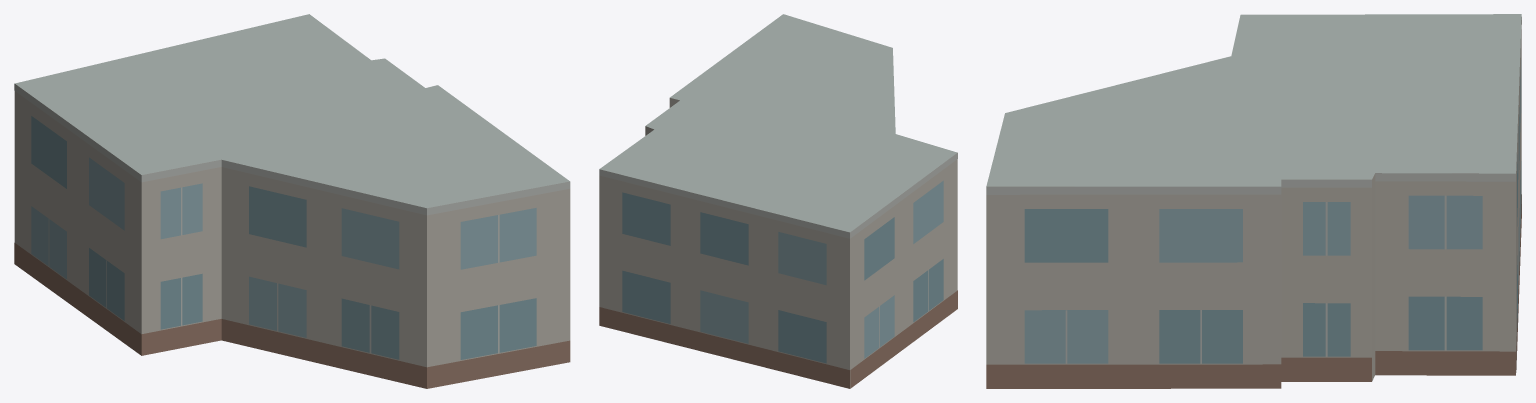
The model's file is survey-upis-32595666.glb.
The picture shows the model from 3 angles, left to right: view 1: azimuth 30°, elevation 25°; view 2: azimuth 150°, elevation 25°; view 3: azimuth 270°, elevation 25°; orthographic projection. The views are drawn at different scales.
Visible parts, largest first — view 1: survey-upis-32595666.tmp; view 2: survey-upis-32595666.tmp; view 3: survey-upis-32595666.tmp.
Boxes of the visible parts, x1,y1,x2,y2 form: survey-upis-32595666.tmp: (14,14,570,388); survey-upis-32595666.tmp: (599,14,957,388); survey-upis-32595666.tmp: (986,14,1521,388).
Bounding box in the file's own units: 11.19 × 6.1 × 14.66.
